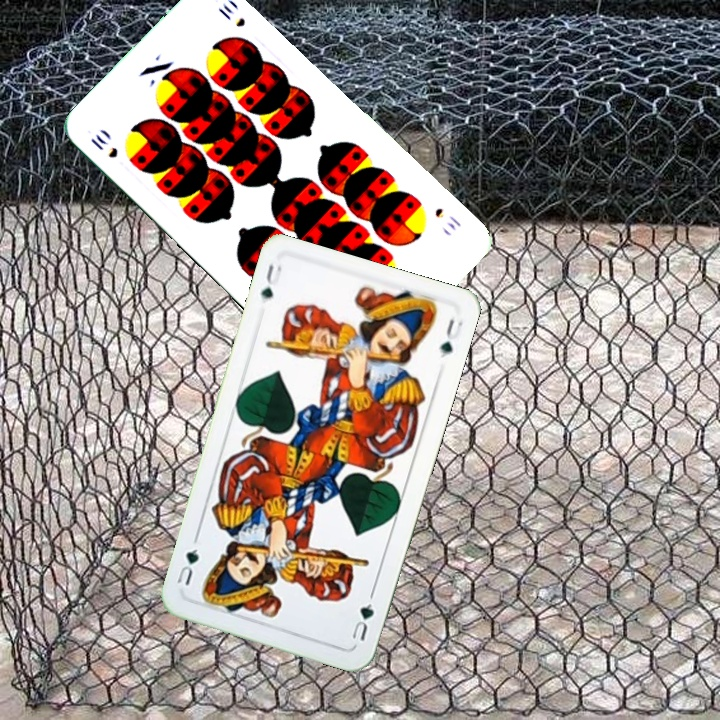GU: (347, 589, 377, 643), (257, 260, 285, 302)
S10: (86, 130, 121, 161), (430, 204, 464, 233)
